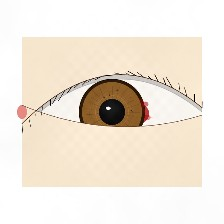hemorrhage_spot: (78, 81, 160, 147)
